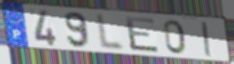0: (163, 19, 187, 55)
4: (33, 9, 59, 47)
9: (63, 11, 91, 49)
E: (123, 15, 162, 54)
I: (200, 20, 215, 58)
L: (96, 13, 126, 53)
